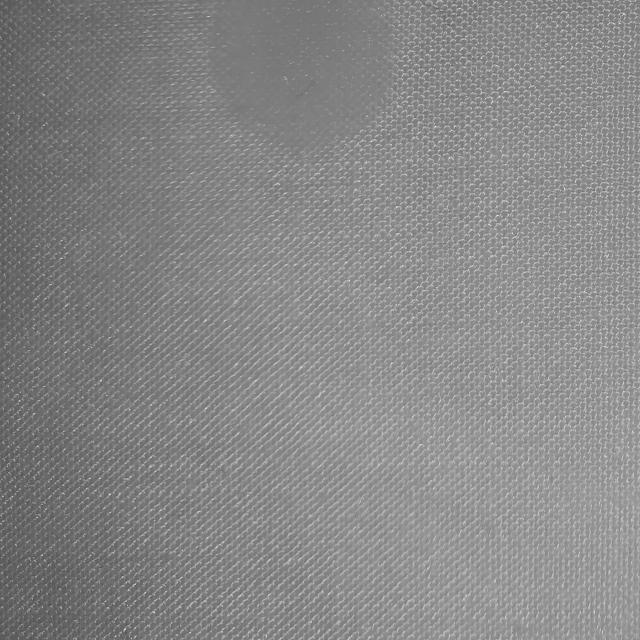Stain: (210, 0, 390, 150)
